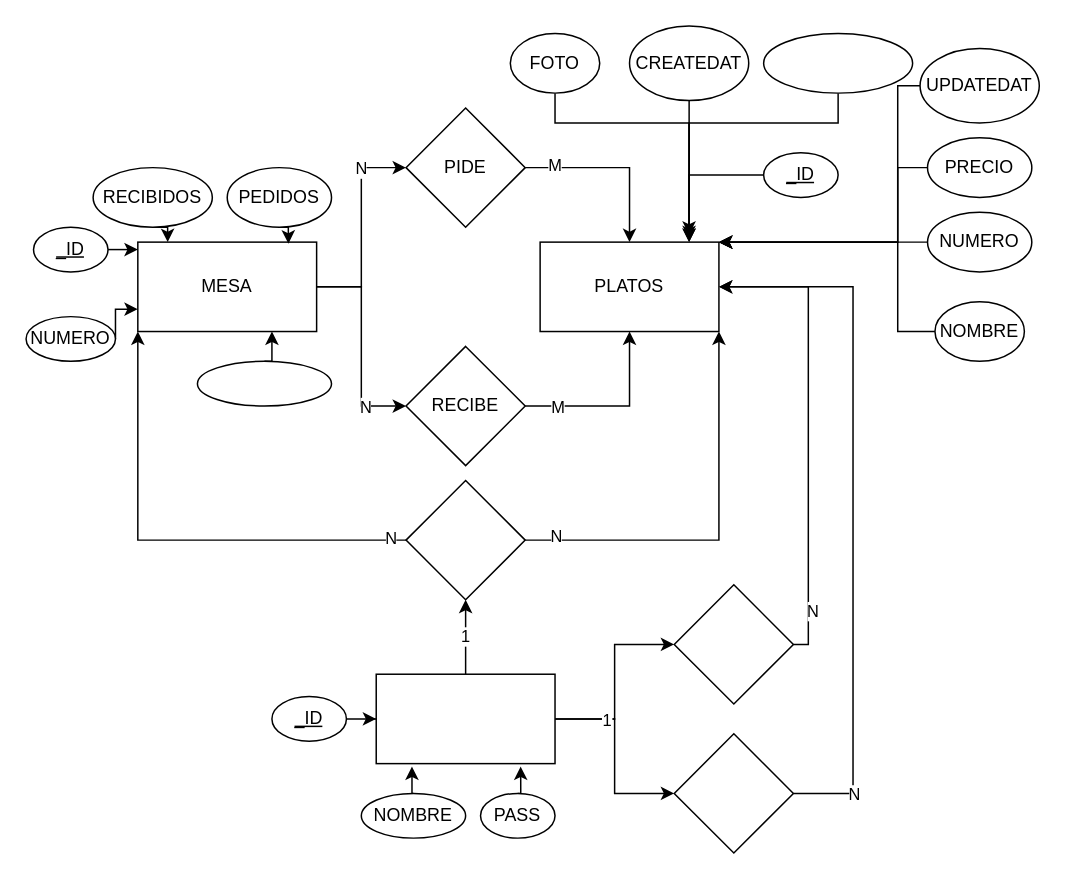
This 1065x879 diagram has some shape labels left out. The centre of each missing label's shape, as x and y in pixels:
"CREA" belongs at (465,539).
"EDITA" belongs at (733,792).
"ELIMINA" belongs at (733,643).
"INGREDIENTES" belongs at (837,62).
"PERSONAS" belongs at (264,383).
"USUARIO" belongs at (465,718).
